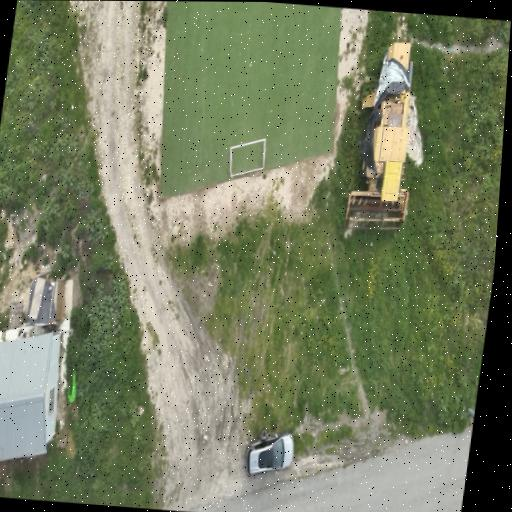car: (245, 432, 293, 475)
harvester: (345, 41, 412, 229)
